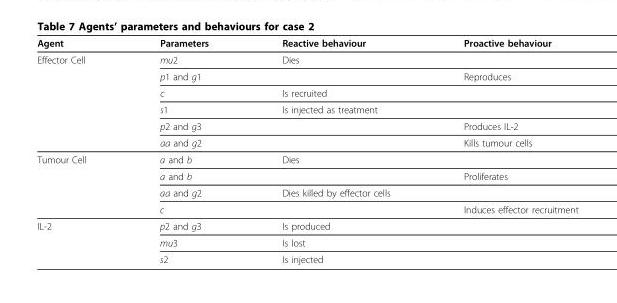table: (36, 36, 577, 264)
table column: (244, 36, 426, 264), (426, 36, 577, 264), (122, 36, 244, 264), (36, 36, 122, 264)
table column header: (36, 36, 577, 51)
table row: (36, 67, 577, 84), (36, 100, 577, 117), (36, 117, 577, 134), (36, 150, 577, 167), (36, 167, 577, 184), (36, 200, 577, 217), (36, 233, 577, 250), (36, 51, 577, 67), (36, 84, 577, 100), (36, 134, 577, 150), (36, 184, 577, 200), (36, 217, 577, 233), (36, 36, 577, 51), (36, 250, 577, 264)
table spanning cell: (36, 51, 122, 150), (36, 150, 122, 217), (36, 217, 122, 264)
